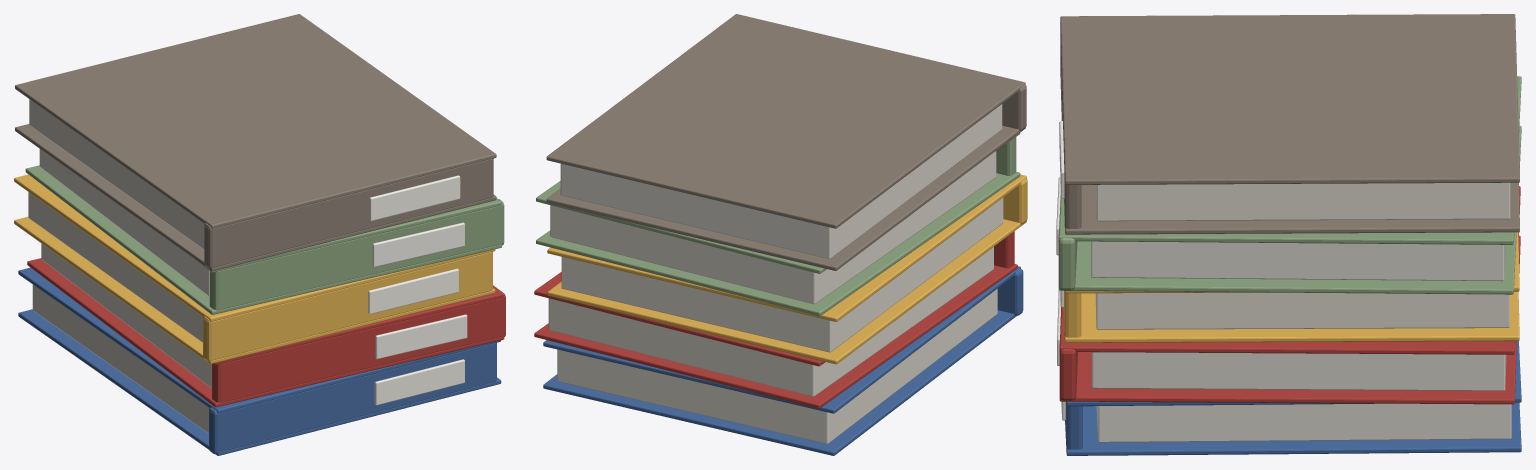
File: hh_cat_folder_stack.glb
3 renders of one model, left to right at view 1: azimuth 30°, elevation 25°; view 2: azimuth 150°, elevation 25°; view 3: azimuth 270°, elevation 25°, orthographic. The views are drawn at different scales.
Visible parts, largest first — view 1: folder_cover.009, folder_spine.003, folder_spine.001, folder_spine.004, folder_spine.002, folder_spine, paper_sheets, paper_sheets.004, paper_sheets.002, folder_cover.008, folder_cover, folder_cover.006 (+13 smaller); view 2: folder_cover.009, paper_sheets.002, paper_sheets.004, paper_sheets, paper_sheets.003, paper_sheets.001, folder_cover.006, folder_cover.002, folder_cover.004, folder_cover.008, folder_cover, folder_cover.005 (+8 smaller); view 3: folder_cover.009, paper_sheets.004, paper_sheets.001, paper_sheets.003, paper_sheets, paper_sheets.002, folder_cover.006, folder_cover.002, folder_cover.008, folder_cover.004, folder_cover, folder_cover.003 (+8 smaller).
Boxes of the visible parts, x1,y1,x2,y2 form: folder_cover.009: (15,14,496,228); folder_spine.003: (209,199,504,310); folder_spine.001: (212,292,505,402); folder_spine.004: (204,158,493,268); folder_spine.002: (203,251,492,361); folder_spine: (209,342,496,454); paper_sheets: (32,284,209,433); paper_sheets.004: (29,99,204,249); paper_sheets.002: (28,192,203,342); folder_cover.008: (15,124,496,271); folder_cover: (18,309,501,455); folder_cover.006: (25,165,501,314); folder_cover.009: (546,14,1025,228); paper_sheets.002: (561,197,1003,352); paper_sheets.004: (560,104,1002,259); paper_sheets: (557,288,997,443); paper_sheets.003: (550,151,996,304); paper_sheets.001: (548,247,993,396); folder_cover.006: (536,171,1020,316); folder_cover.002: (534,264,1017,408); folder_cover.004: (547,219,1026,364); folder_cover.008: (546,125,1025,270); folder_cover: (543,310,1016,455); folder_cover.005: (547,174,1026,321); folder_cover.009: (1060,14,1519,184); paper_sheets.004: (1095,182,1510,221); paper_sheets.001: (1091,352,1506,390); paper_sheets.003: (1091,241,1505,281); paper_sheets: (1096,403,1511,442); paper_sheets.002: (1095,292,1509,329); folder_cover.006: (1058,125,1521,294); folder_cover.002: (1059,235,1520,404); folder_cover.008: (1060,73,1519,234); folder_cover.004: (1063,291,1519,342); folder_cover: (1065,402,1521,455); folder_cover.003: (1059,186,1520,354).
Size of the model in its own units: 0.3 by 0.22 by 0.34.
